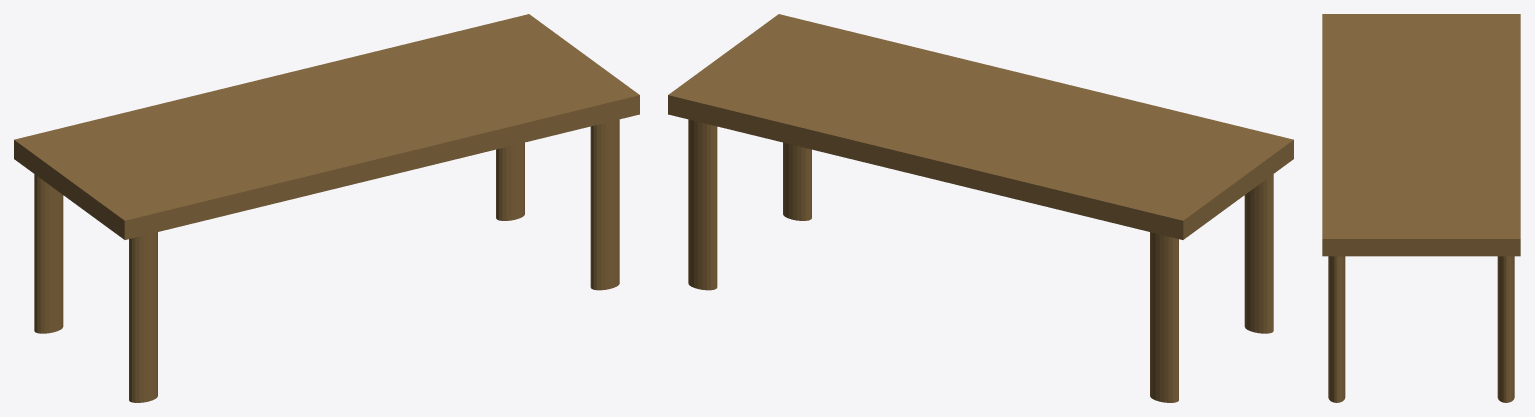
The model's file is bench2.glb.
3 renders of one model, left to right at view 1: azimuth 30°, elevation 25°; view 2: azimuth 150°, elevation 25°; view 3: azimuth 270°, elevation 25°, orthographic. The views are drawn at different scales.
Visible parts, largest first — view 1: Mesh_Mesh_head_geo.001_lambert2SG.001; view 2: Mesh_Mesh_head_geo.001_lambert2SG.001; view 3: Mesh_Mesh_head_geo.001_lambert2SG.001.
Boxes of the visible parts, x1,y1,x2,y2 form: Mesh_Mesh_head_geo.001_lambert2SG.001: [14, 14, 639, 402]; Mesh_Mesh_head_geo.001_lambert2SG.001: [668, 14, 1293, 402]; Mesh_Mesh_head_geo.001_lambert2SG.001: [1322, 14, 1520, 402].
Size of the model in its own units: 0.071 by 0.025 by 0.0264.
